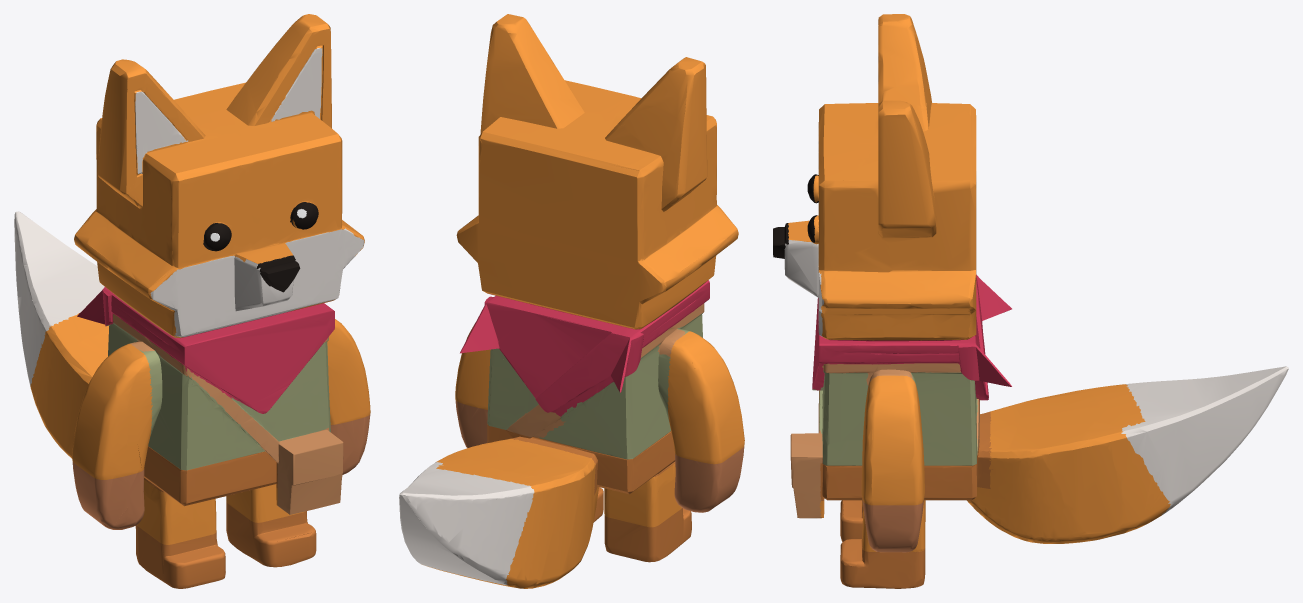
File: focci.glb
3 views of the same model, side by side, from view 1: azimuth 30°, elevation 25°; view 2: azimuth 150°, elevation 25°; view 3: azimuth 270°, elevation 25° (orthographic). The views are drawn at different scales.
Parts seen in each view (by area): view 1: focci; view 2: focci; view 3: focci.
Part boxes in pixels (<box>): focci: <box>14,14,370,588</box>; focci: <box>399,14,744,588</box>; focci: <box>773,14,1288,588</box>.
Size of the model in its own units: 0.545 by 0.9682 by 0.9151.
